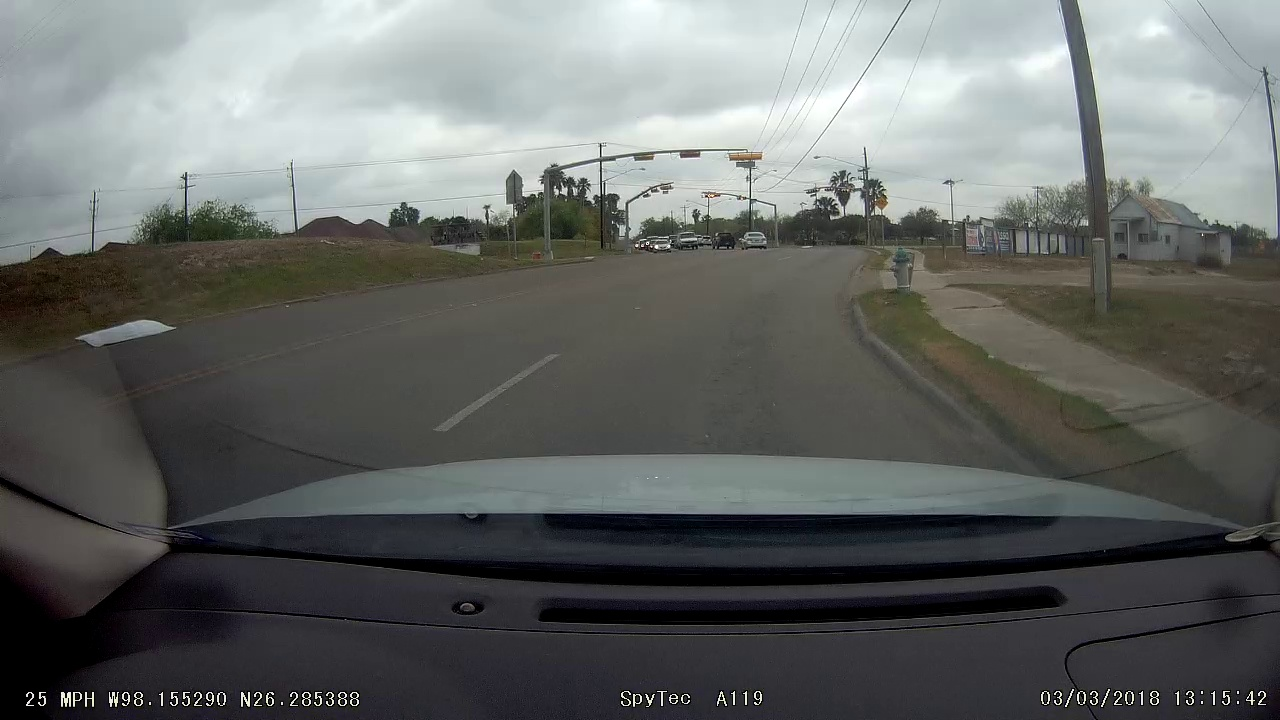alligatorCrack: (699, 365, 783, 447)
